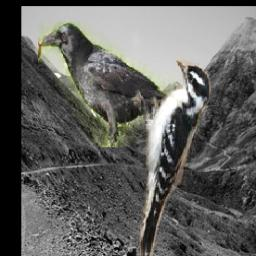Crow: (38, 21, 199, 147)
Woodpecker: (131, 59, 211, 256)
